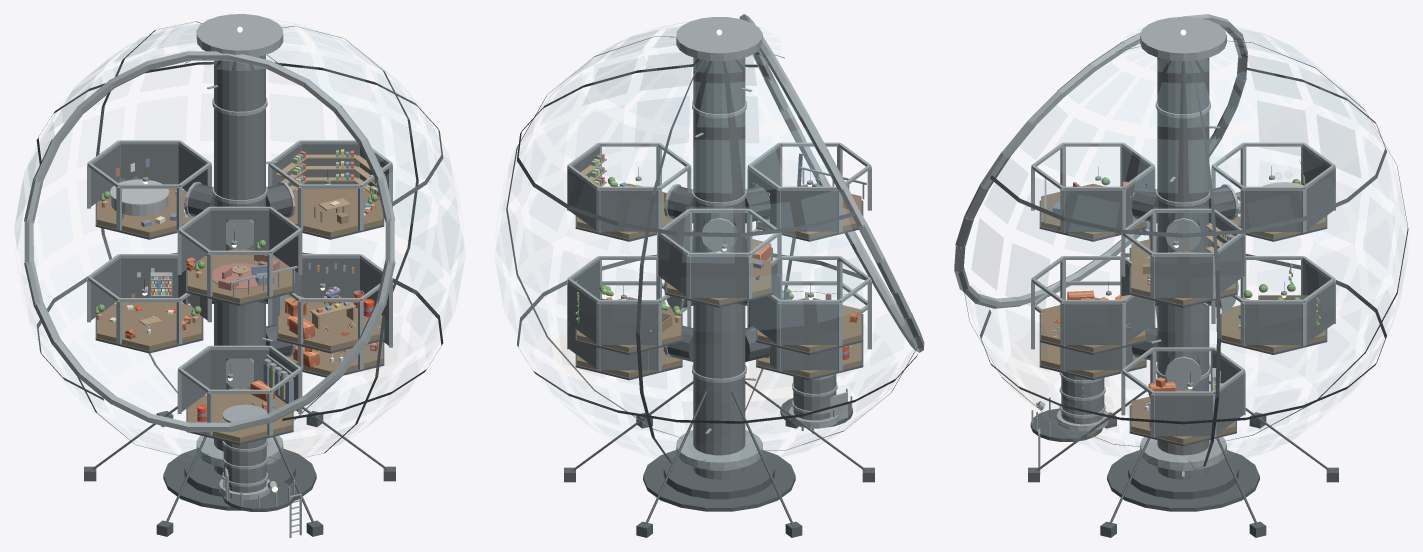
Rendered from dome_core.glb.
The picture shows the model from 3 angles, left to right: view 1: azimuth 30°, elevation 25°; view 2: azimuth 150°, elevation 25°; view 3: azimuth 270°, elevation 25°; orthographic projection.
Parts seen in each view (by area): view 1: dome_core_body, keep_shell_glass_rim, dome_core_tex; view 2: dome_core_body, keep_shell_glass_rim; view 3: dome_core_body, keep_shell_glass_rim, dome_core_tex.
Boxes of the visible parts, x1,y1,x2,y2 form: dome_core_body: [24, 14, 443, 537]; keep_shell_glass_rim: [14, 19, 463, 295]; dome_core_tex: [115, 200, 377, 421]; dome_core_body: [506, 14, 924, 537]; keep_shell_glass_rim: [552, 22, 864, 330]; dome_core_body: [954, 14, 1408, 537]; keep_shell_glass_rim: [971, 27, 1380, 311]; dome_core_tex: [1054, 186, 1240, 427].
Bounding box in the file's own units: 26.2 × 28.89 × 26.2.
57 materials, 1 textured.
